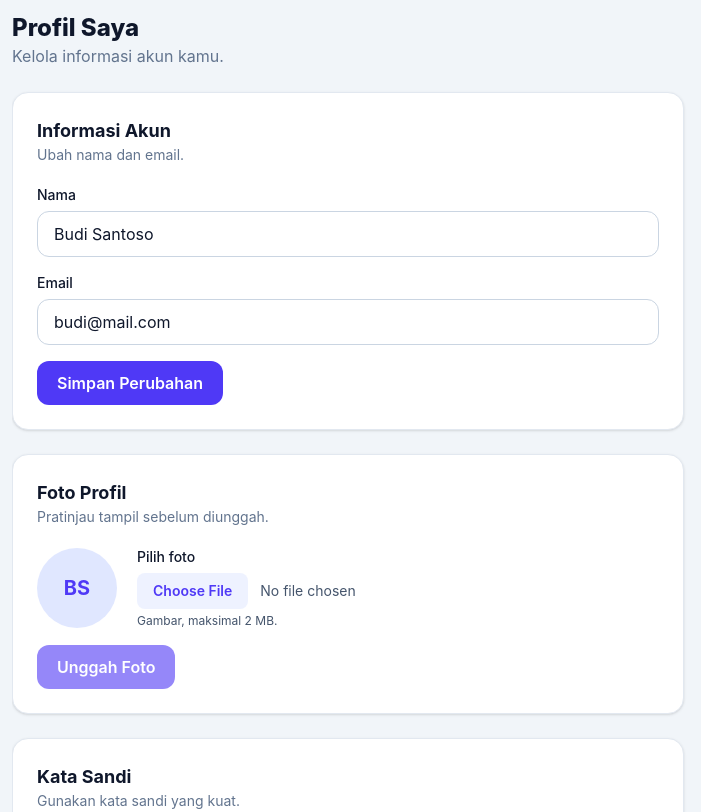
Scenario: ProfilePage › form informasi akun › menolak format email yang tidak valid
Replace the text in the field labelled "Email" with "bukan-email" at (348, 322), box 37,299 -> 659,345
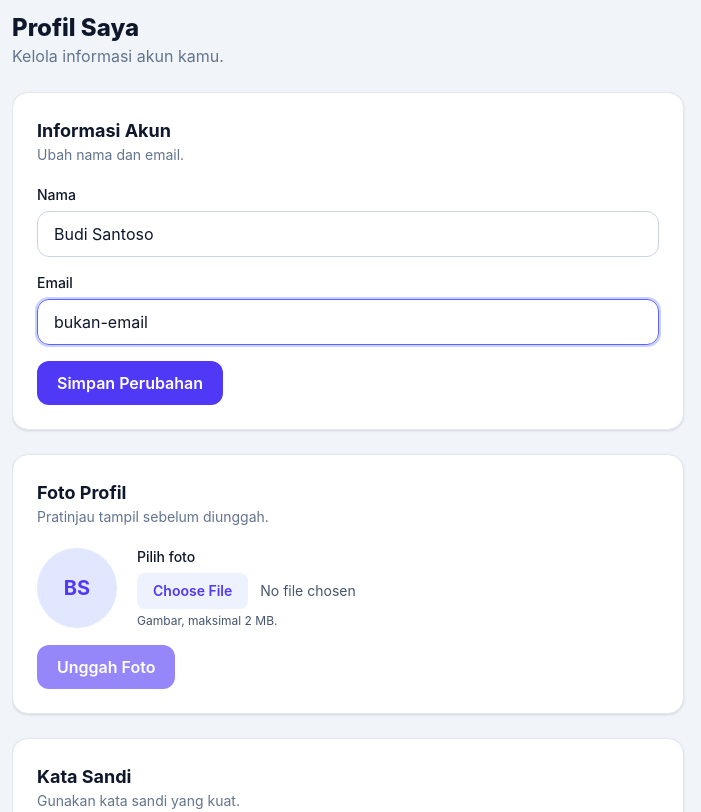
Click the button "Simpan Perubahan" at (130, 383), box 37,361 -> 223,405
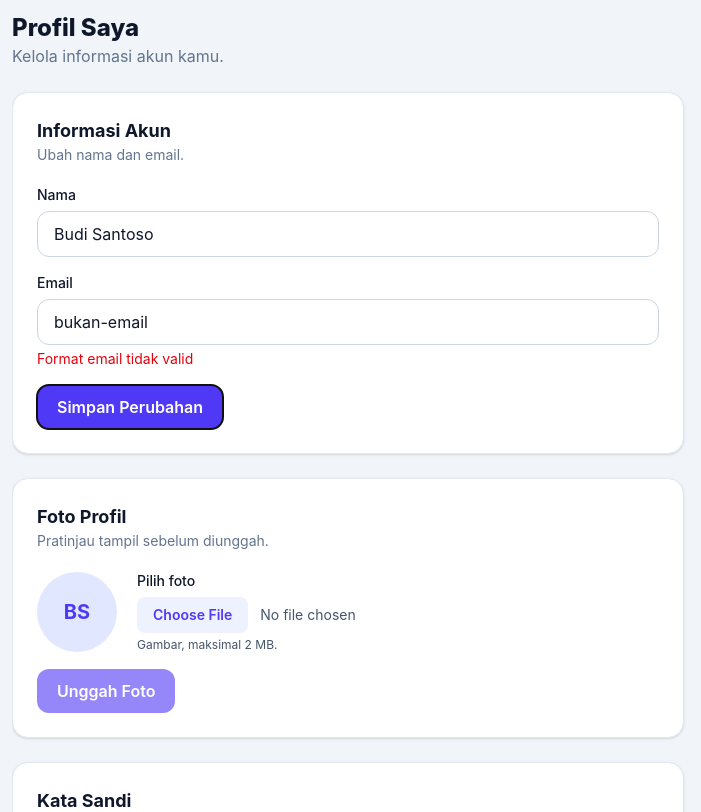
Result: the text "Format email tidak valid" is shown at 37,350 -> 193,367
